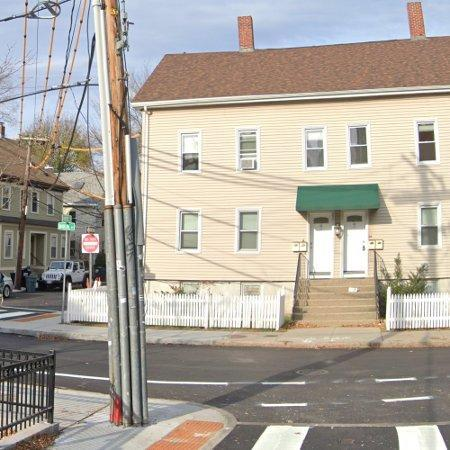stairs: (294, 276, 382, 331)
